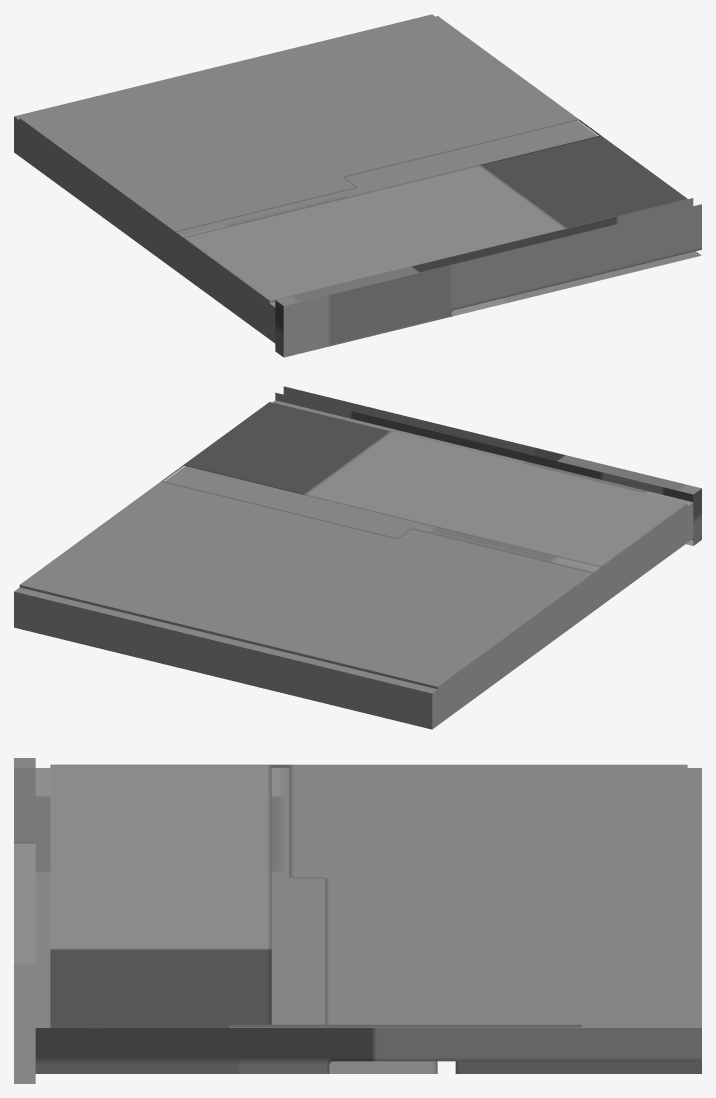
The picture shows the model from 3 angles, top to bottom: view 1: azimuth 30°, elevation 25°; view 2: azimuth 150°, elevation 25°; view 3: azimuth 270°, elevation 25°; orthographic projection. The views are drawn at different scales.
Bounding box in the file's own units: 0.85 × 0.1 × 0.95.
